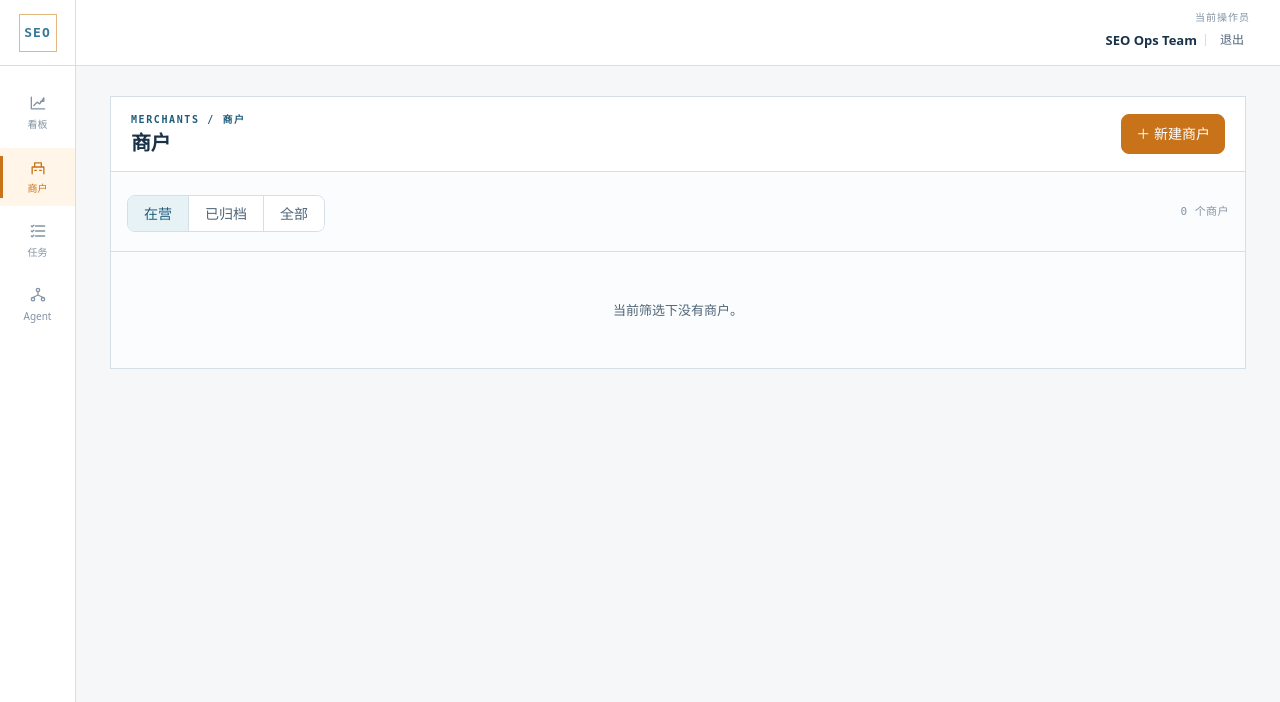
Scenario: desktop operator shell › creates only one merchant when the form is submitted twice before React rerenders
This screenshot has width=1280, height=702.
Click the button "＋ 新建商户". click: [1173, 134]
box: 1121,114 -> 1225,154
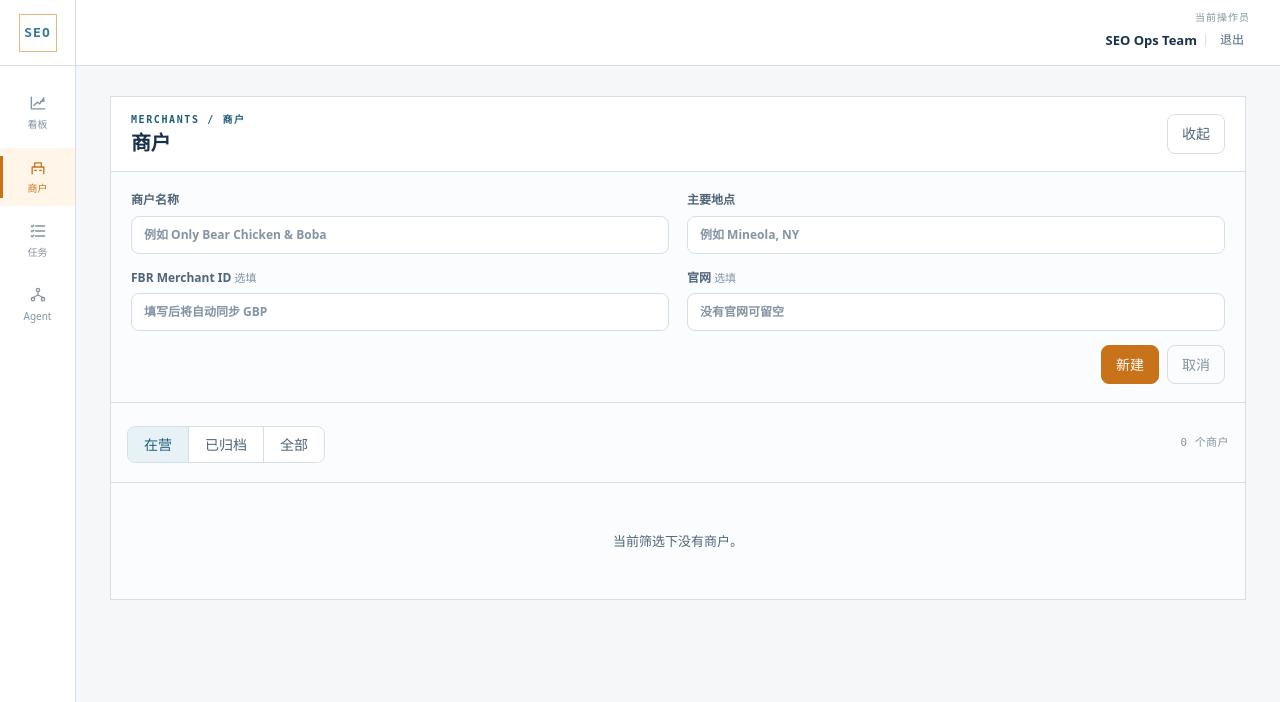
Type "Single Merchant" into the field labelled "商户名称". click: [400, 235]
box: 131,216 -> 669,254
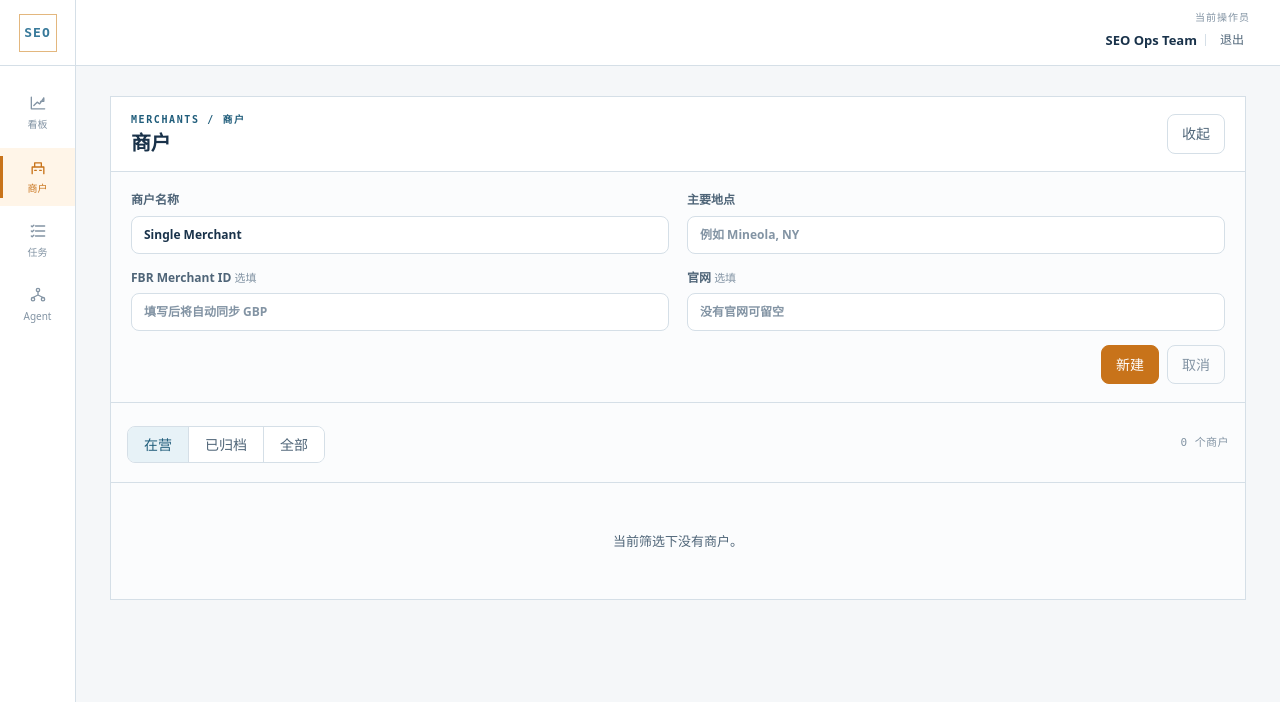
Type "Queens, NY" into the field labelled "主要地点". click: [956, 235]
box: 687,216 -> 1225,254
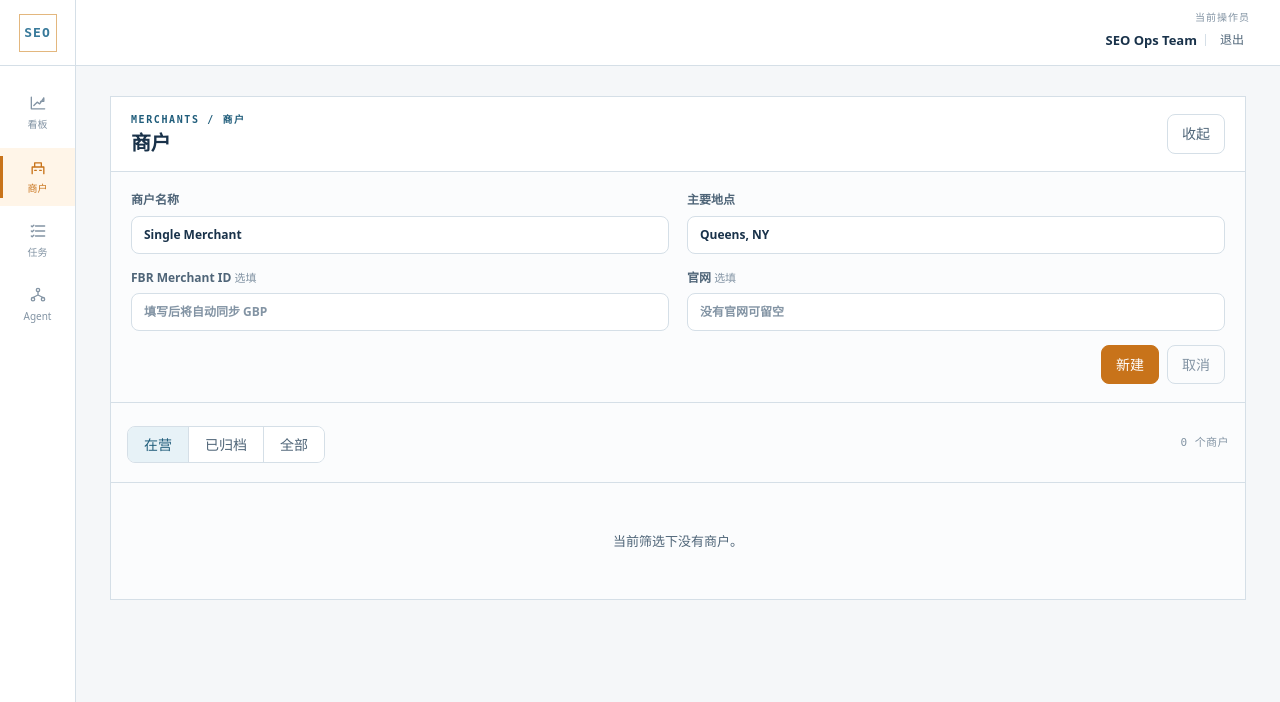
Submit the form named "新建商户", box 111,172 -> 1245,403
Submit the form named "新建商户", box 111,172 -> 1245,403
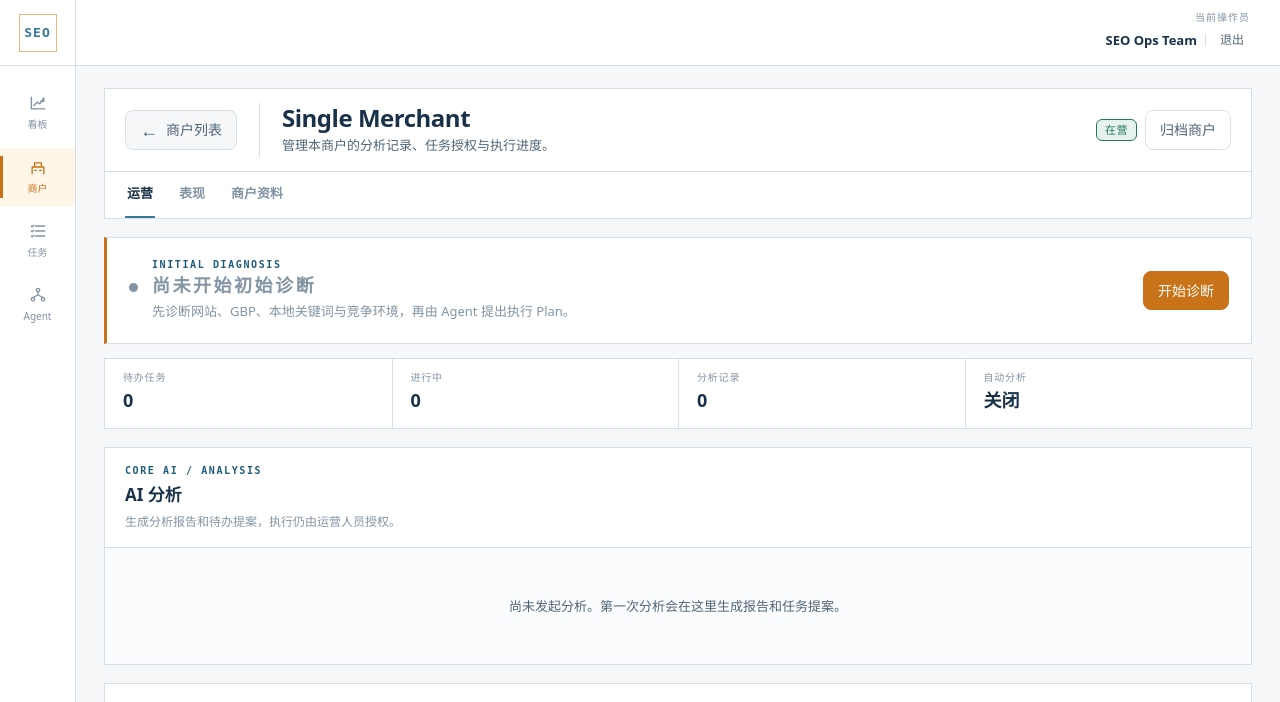
Now the heading "Single Merchant" is shown, box 282,101 -> 470,134
